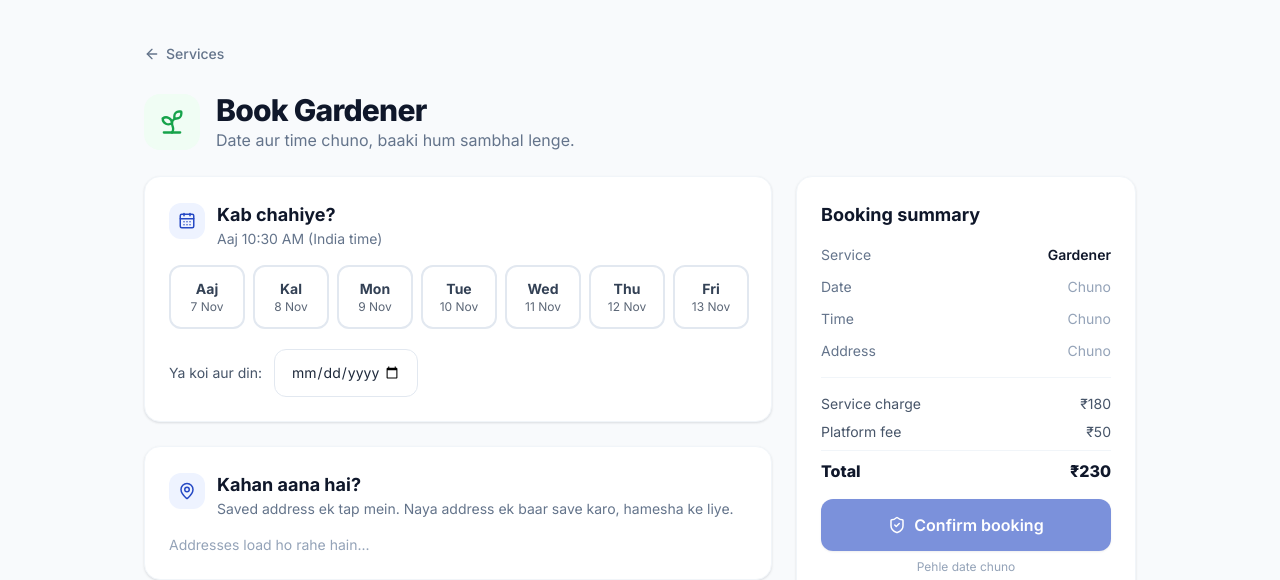
when something goes wrong › "no worker available" is explained and nothing is navigated
This screenshot has width=1280, height=580.
Click the radio button labelled "Kal 8 Nov": {"x": 291, "y": 297} [253,265,329,329]
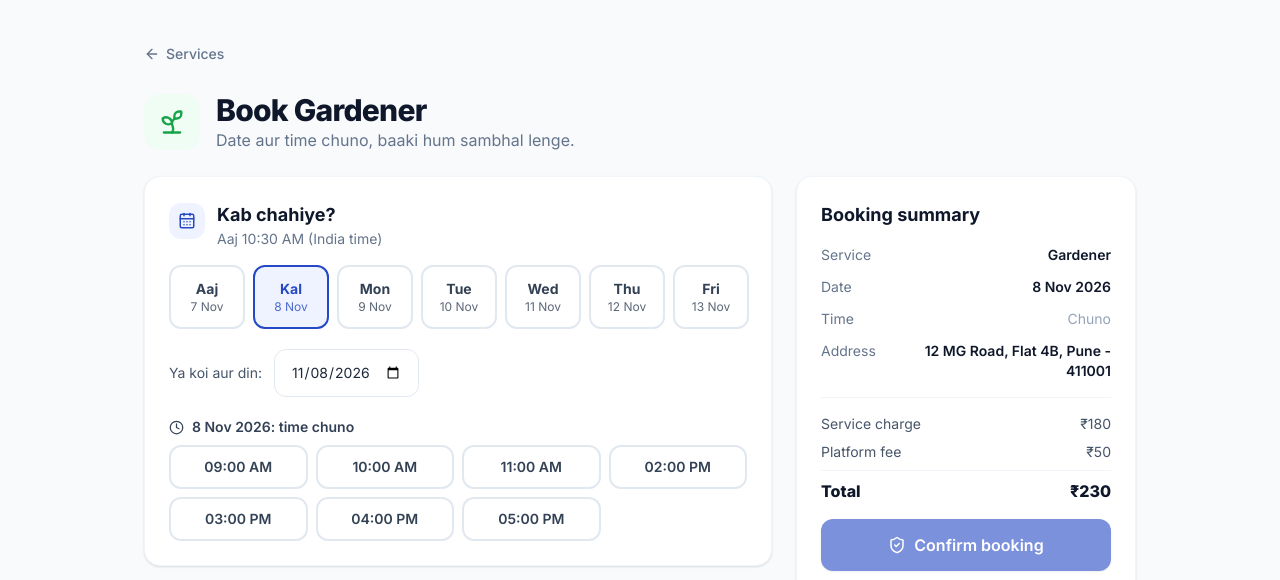
Click the radio button labelled "10:00 AM": {"x": 385, "y": 467} [316,445,454,489]
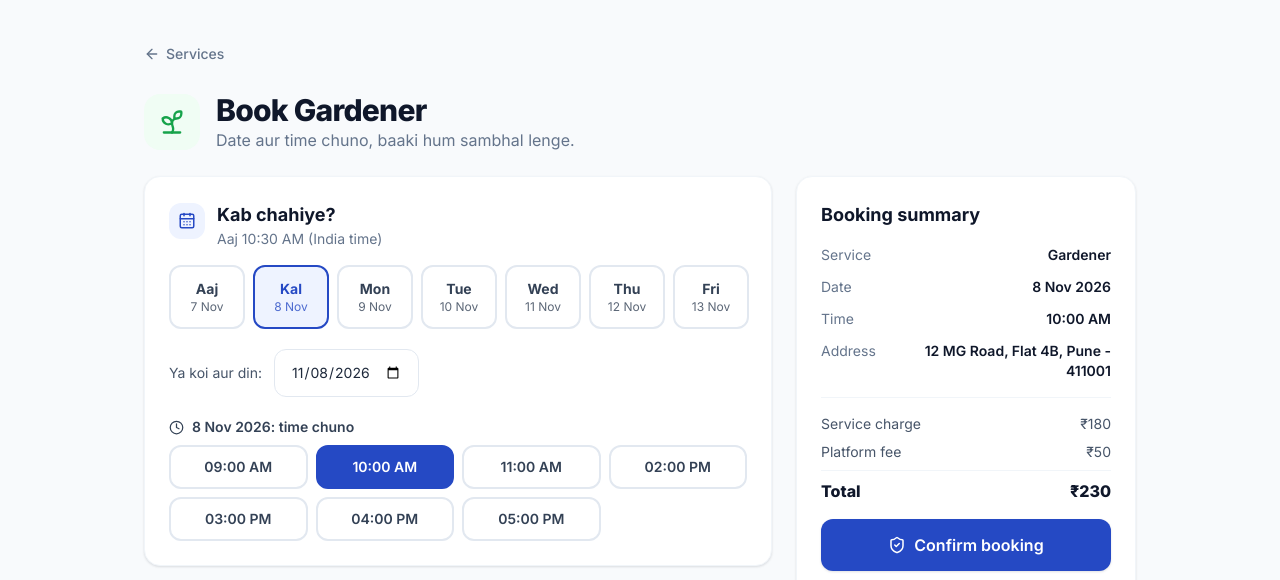
Click the button "Confirm booking": {"x": 966, "y": 545} [821,519,1111,571]
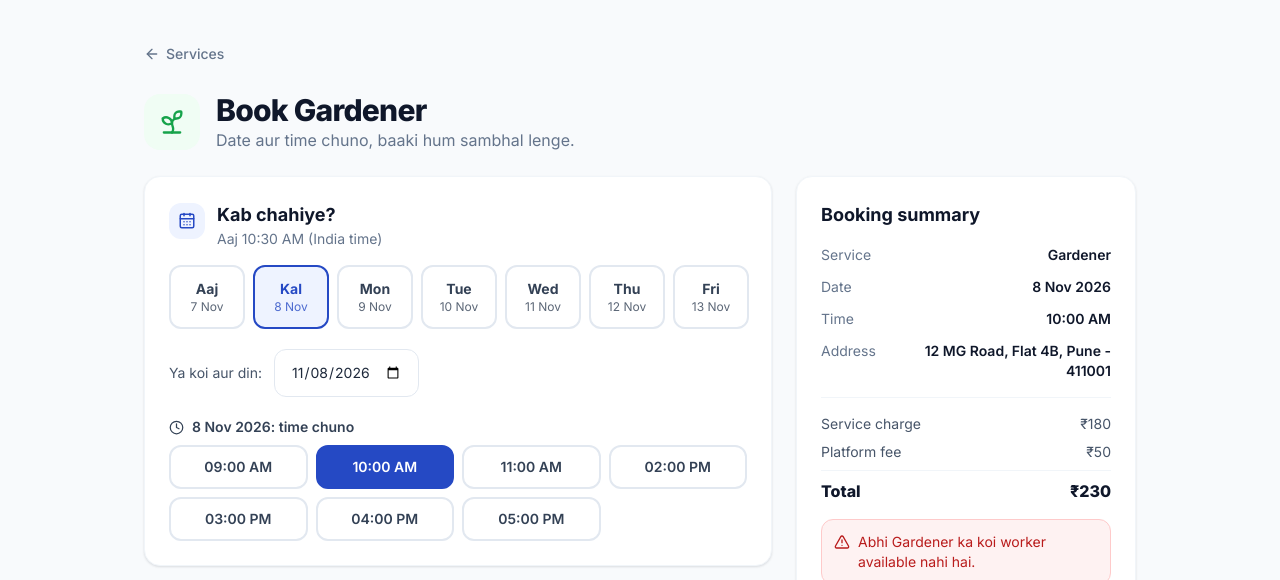
Expected: the message shows "koi worker available nahi", [858,533,1046,570]
